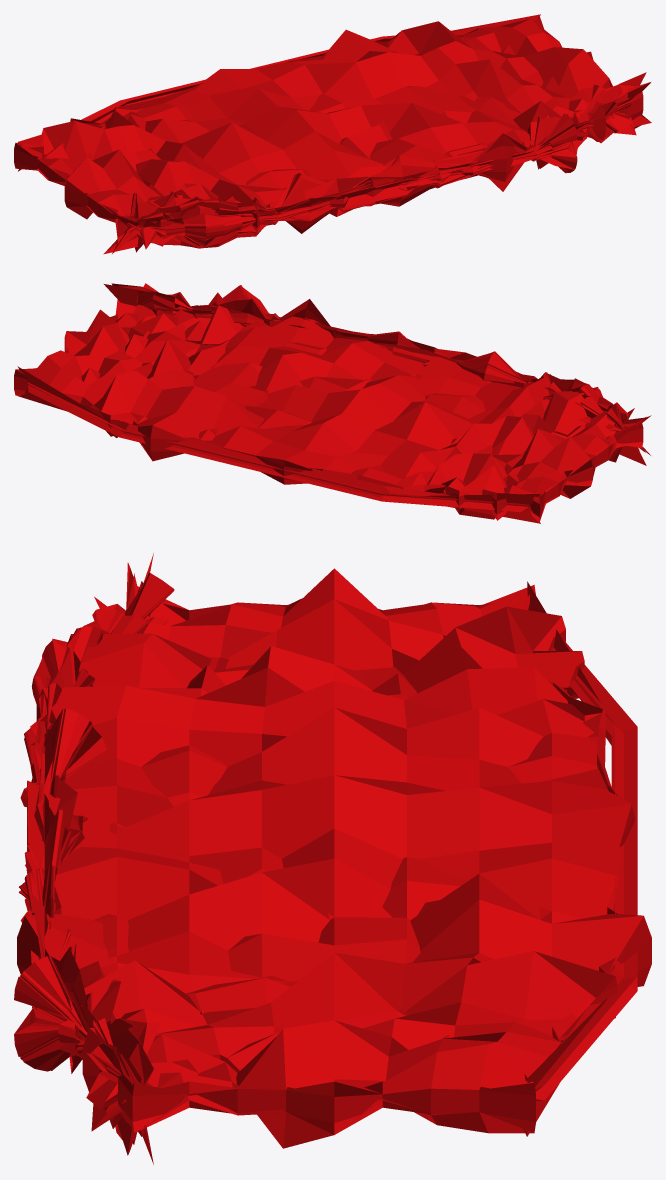
3 renders of one model, top to bottom at view 1: azimuth 30°, elevation 25°; view 2: azimuth 150°, elevation 25°; view 3: azimuth 270°, elevation 25°, orthographic. The views are drawn at different scales.
Parts seen in each view (by area): view 1: SPlatform; view 2: SPlatform; view 3: SPlatform.
Part boxes in pixels (x1=…): SPlatform: x1=14, y1=14, x2=651, y2=254; SPlatform: x1=14, y1=283, x2=651, y2=523; SPlatform: x1=14, y1=553, x2=651, y2=1164.
Bounding box in the file's own units: 1265 × 140 × 660.
